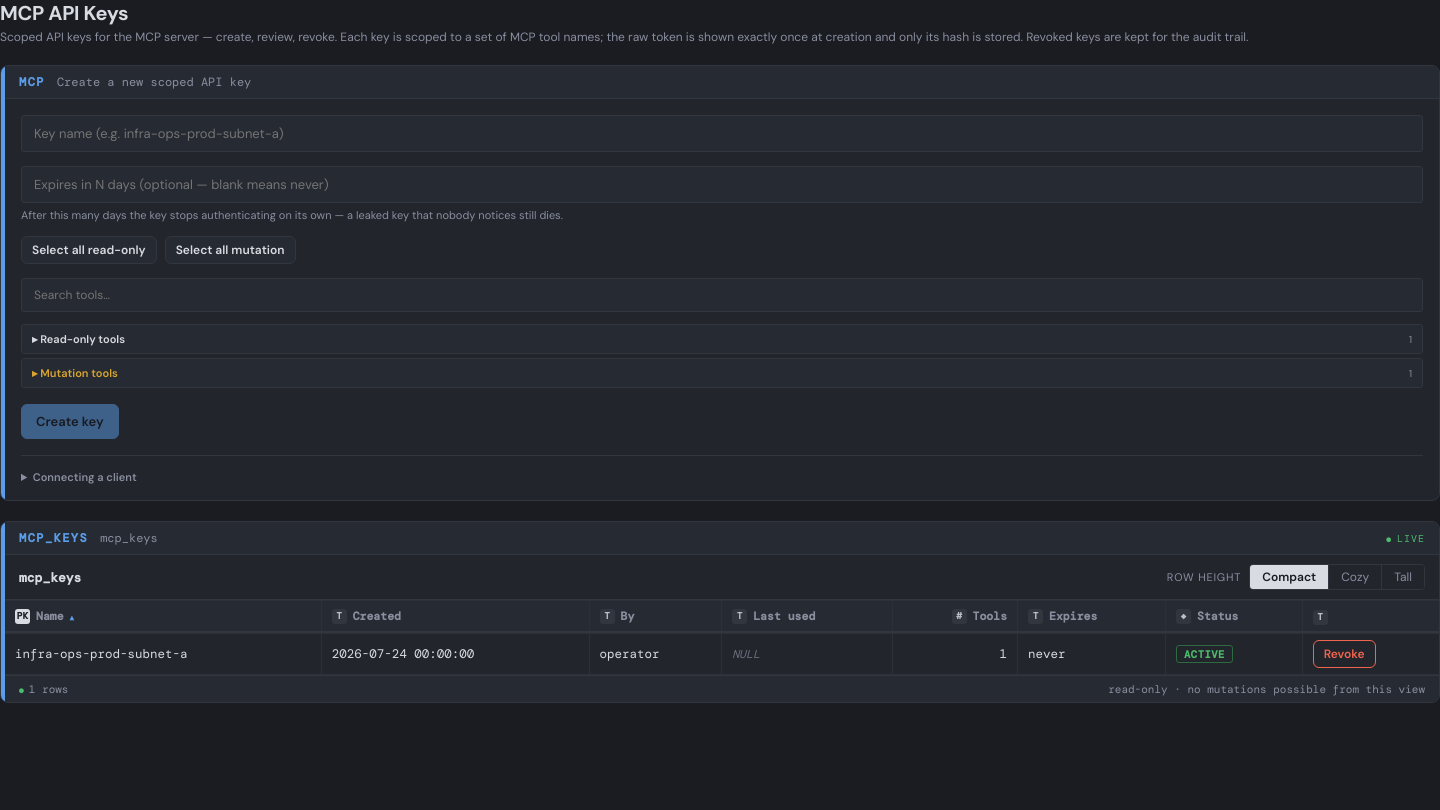
Test: McpKeys page error handling › shows a ready-to-paste client config with the real token right after creating a key
The width and height of the screenshot is (1440, 810).
Expected: the text "infra-ops-prod-subnet-a" is shown, [5, 634, 321, 674]
Type "new-key" into the field with placeholder "Key name (e.g. infra-ops-prod-subnet-a)" at (722,134), box [21, 115, 1423, 152]
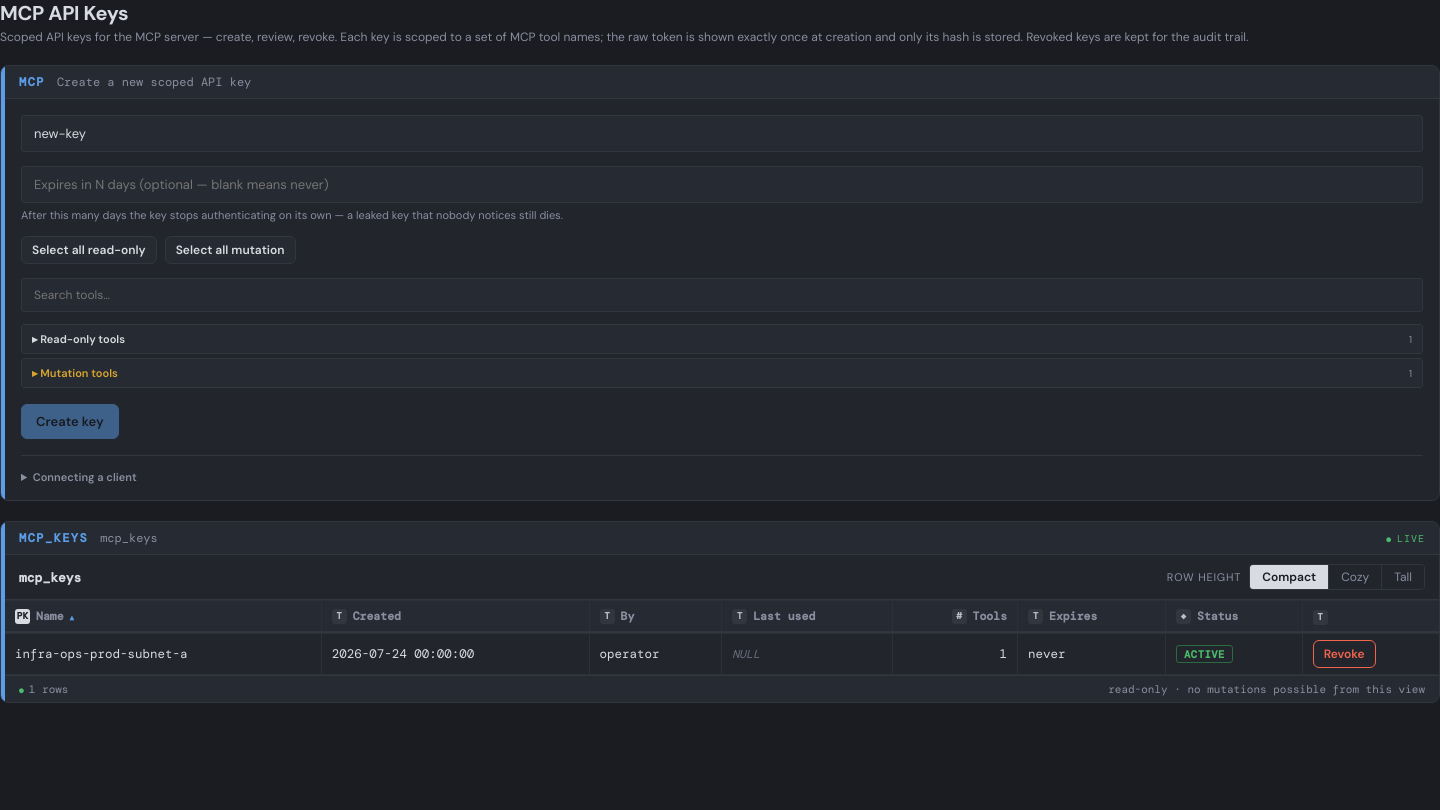
Click the button "Select all read-only" at (89,250), box [21, 236, 157, 264]
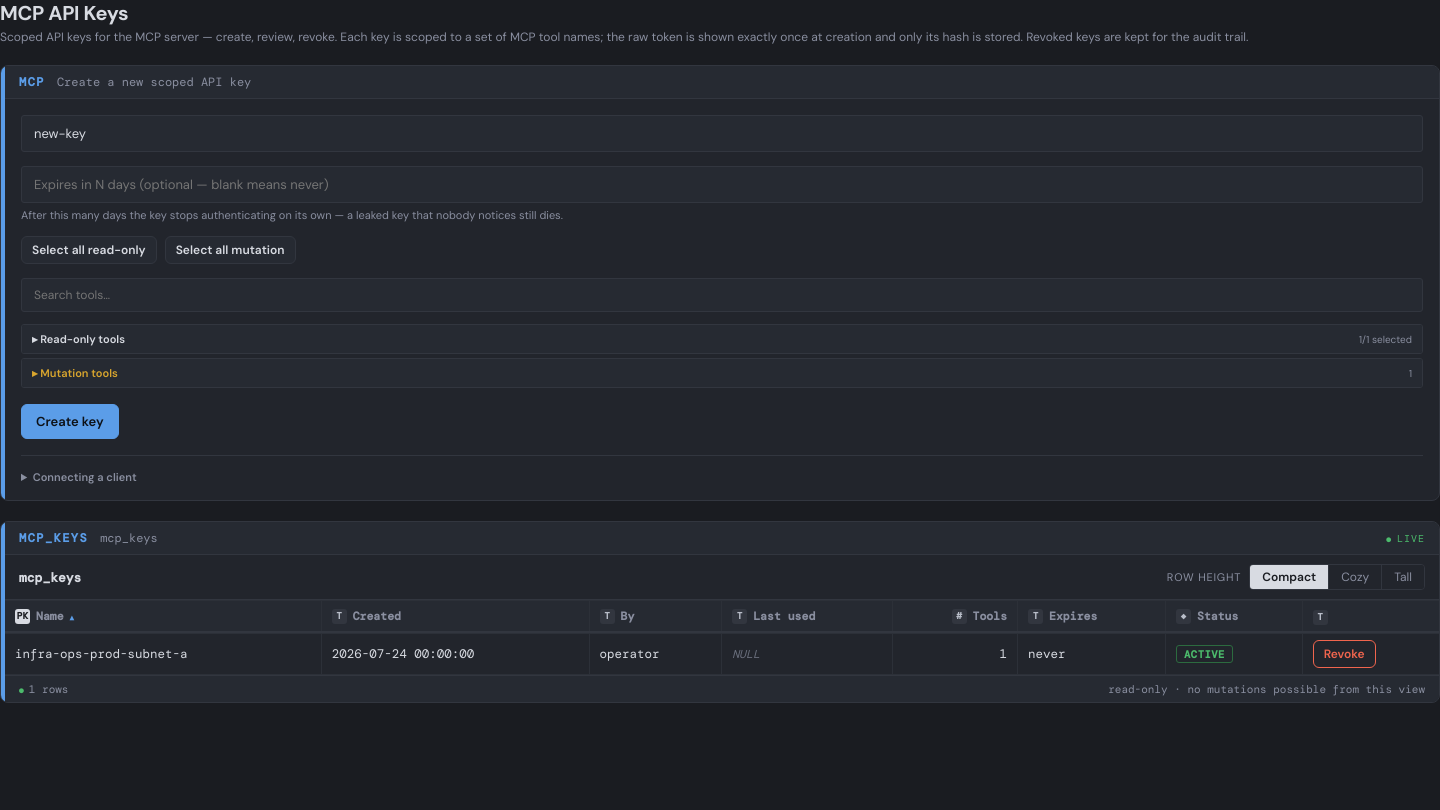
Now the button "Create key" is enabled
Click the button "Create key" at (70,422), box [21, 404, 119, 439]
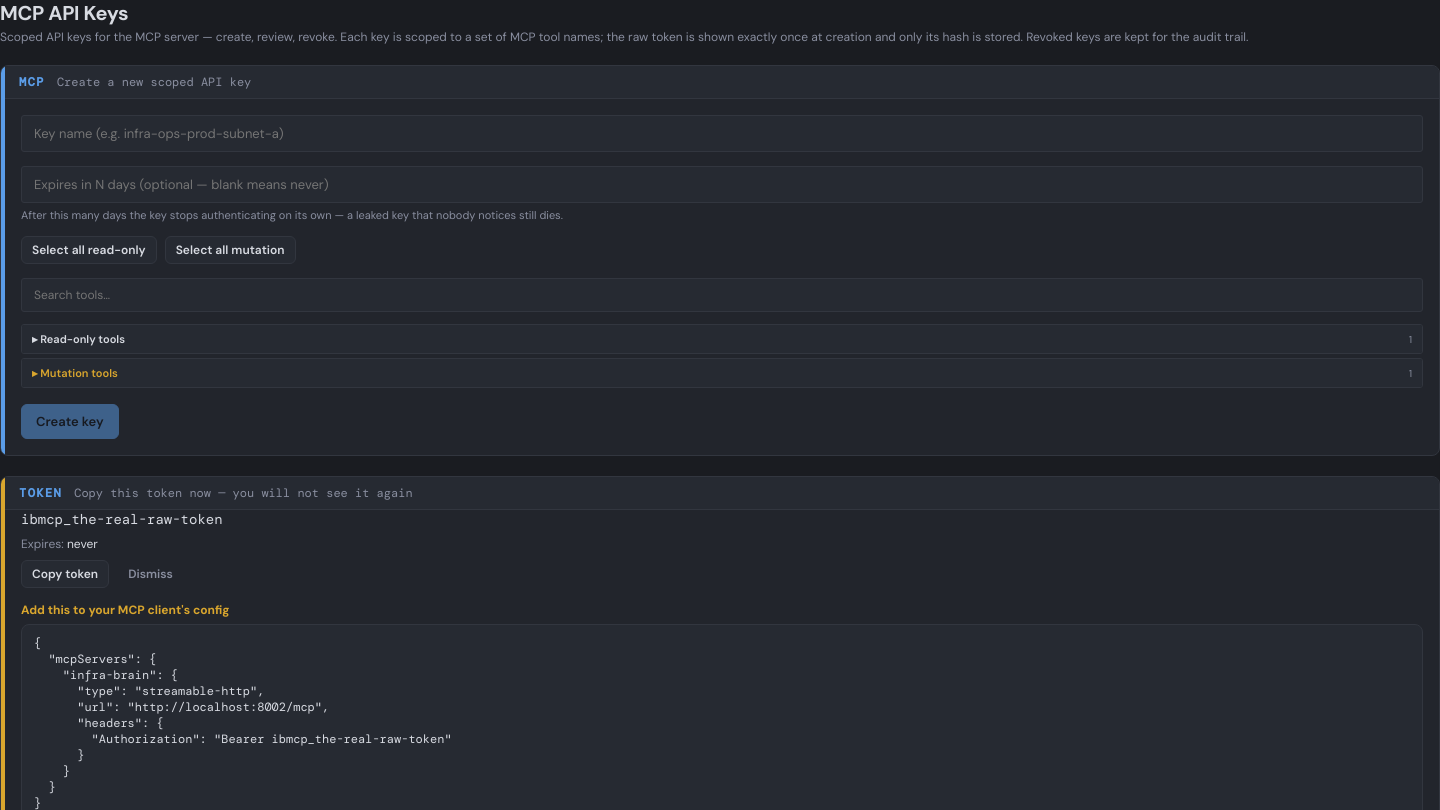
Now the text "Copy this token now — you will not see it again" is shown, box [74, 485, 413, 501]
Now the text "ibmcp_the-real-raw-token" is shown, box [21, 510, 223, 528]
Now the text "Add this to your MCP client's config" is shown, box [21, 602, 230, 618]
